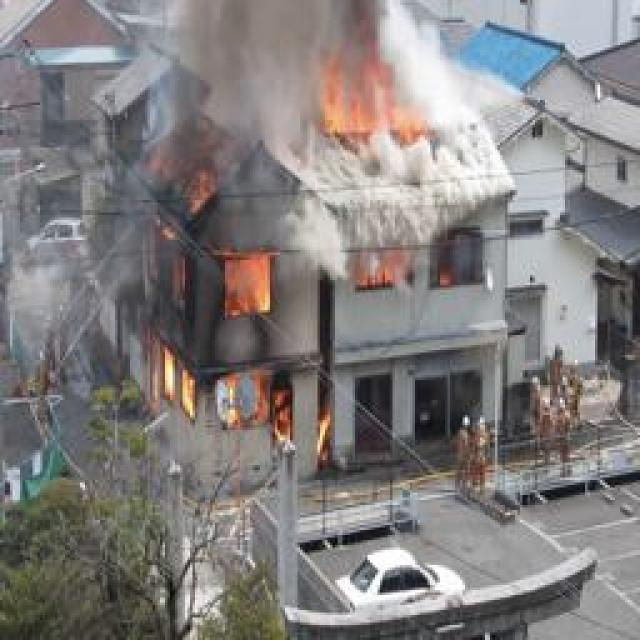Fire: (138, 158, 299, 436), (322, 70, 430, 142)
